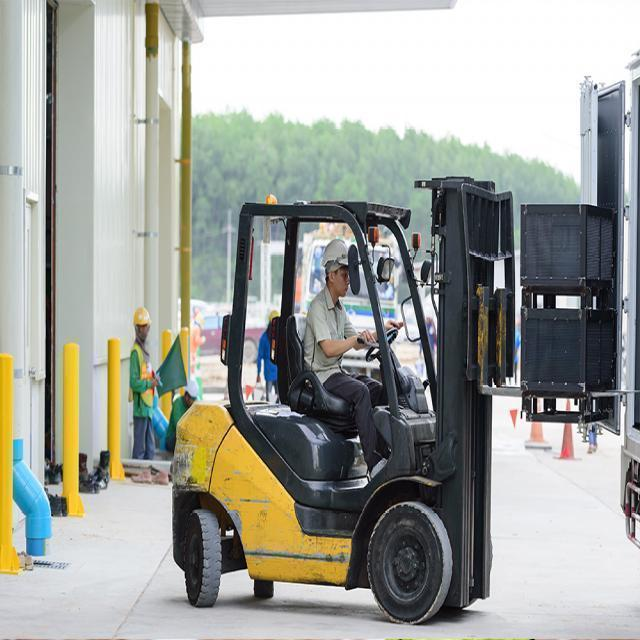forklift: (167, 156, 522, 635)
